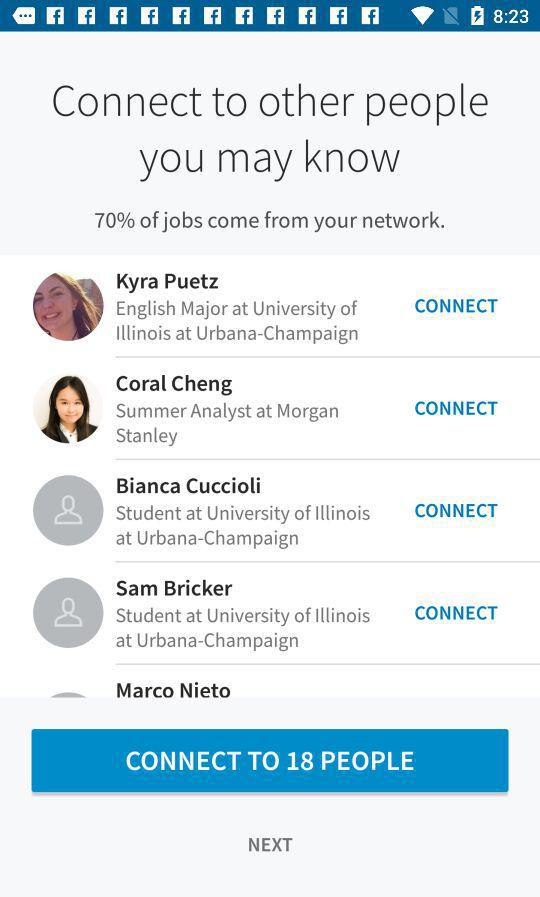Icon: (33, 577, 105, 649), (33, 475, 105, 547)
Image: (33, 270, 105, 342), (33, 373, 103, 445)
Text: (53, 84, 489, 184), (117, 607, 371, 652), (117, 505, 371, 550), (117, 300, 359, 346), (117, 403, 339, 448), (95, 211, 445, 234), (117, 477, 261, 495), (117, 375, 233, 397), (117, 273, 219, 294), (117, 579, 233, 597), (117, 682, 231, 699), (414, 605, 498, 621), (415, 400, 499, 416), (415, 299, 499, 315), (415, 503, 499, 518), (249, 838, 294, 853)
TextButton: (32, 729, 509, 793)
UpperTaskBar: (1, 1, 540, 33)
